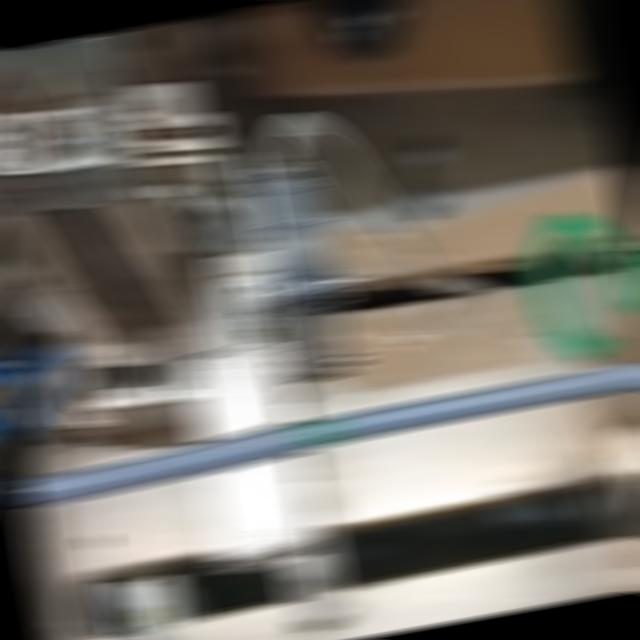green: (292, 416, 347, 451)
